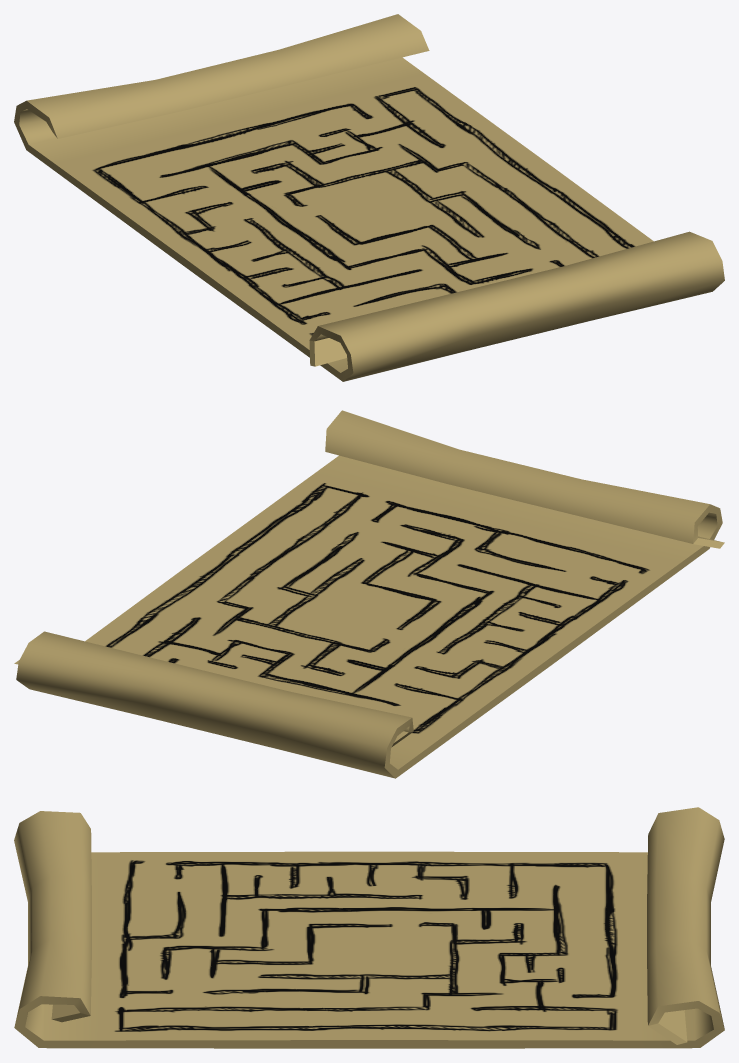
The model's file is Prop_Map_01.fbx.
3 views of the same model, one above another, from view 1: azimuth 30°, elevation 25°; view 2: azimuth 150°, elevation 25°; view 3: azimuth 270°, elevation 25° (orthographic). The views are drawn at different scales.
Visible parts, largest first — view 1: Prop_Map_01; view 2: Prop_Map_01; view 3: Prop_Map_01.
Boxes of the visible parts, left/top/right/bottom form: Prop_Map_01: left=14, top=14, right=724, bottom=381; Prop_Map_01: left=14, top=410, right=724, bottom=778; Prop_Map_01: left=14, top=807, right=724, bottom=1048.
Bounding box in the file's own units: 76.37 × 8.97 × 109.
1 material, 1 textured.
